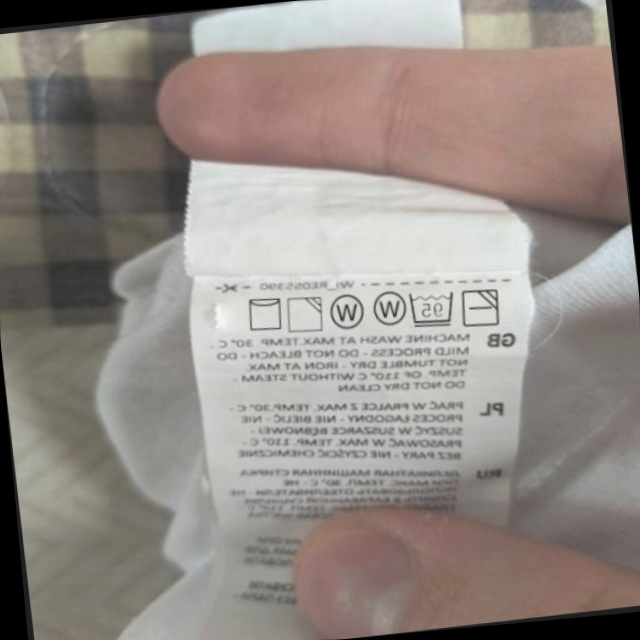95C: (404, 285, 459, 332)
dry_flat_in_shade: (458, 283, 505, 332)
line_dry: (241, 291, 287, 336)
shade_dry: (282, 291, 327, 337)
wet_clean: (325, 290, 368, 335), (367, 284, 409, 330)
